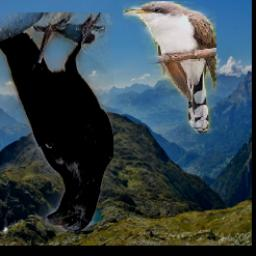Crow: (0, 13, 114, 232)
Cuckoo: (123, 1, 216, 134)
